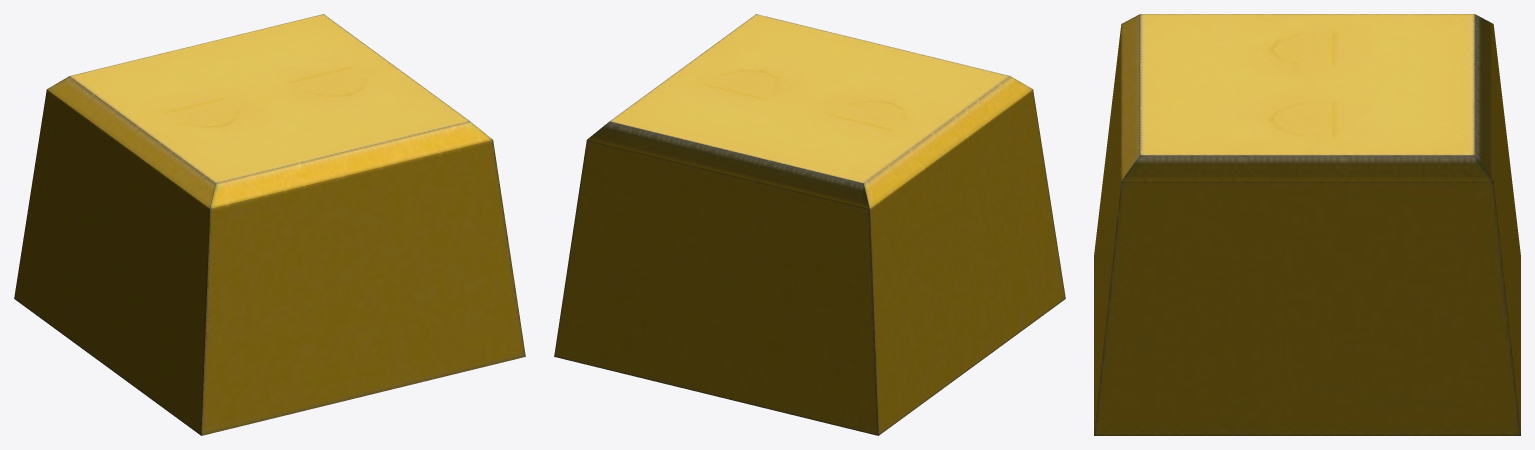
Rendered from manualgun_base.obj.
3 renders of one model, left to right at view 1: azimuth 30°, elevation 25°; view 2: azimuth 150°, elevation 25°; view 3: azimuth 270°, elevation 25°, orthographic. The views are drawn at different scales.
Parts seen in each view (by area): view 1: Object002; view 2: Object002; view 3: Object002.
Boxes of the visible parts, <box> form: Object002: <box>14,14,525,435</box>; Object002: <box>554,14,1065,435</box>; Object002: <box>1094,14,1520,435</box>.
Bounding box in the file's own units: 13.1 × 8.84 × 13.1.
1 material, 1 textured.
